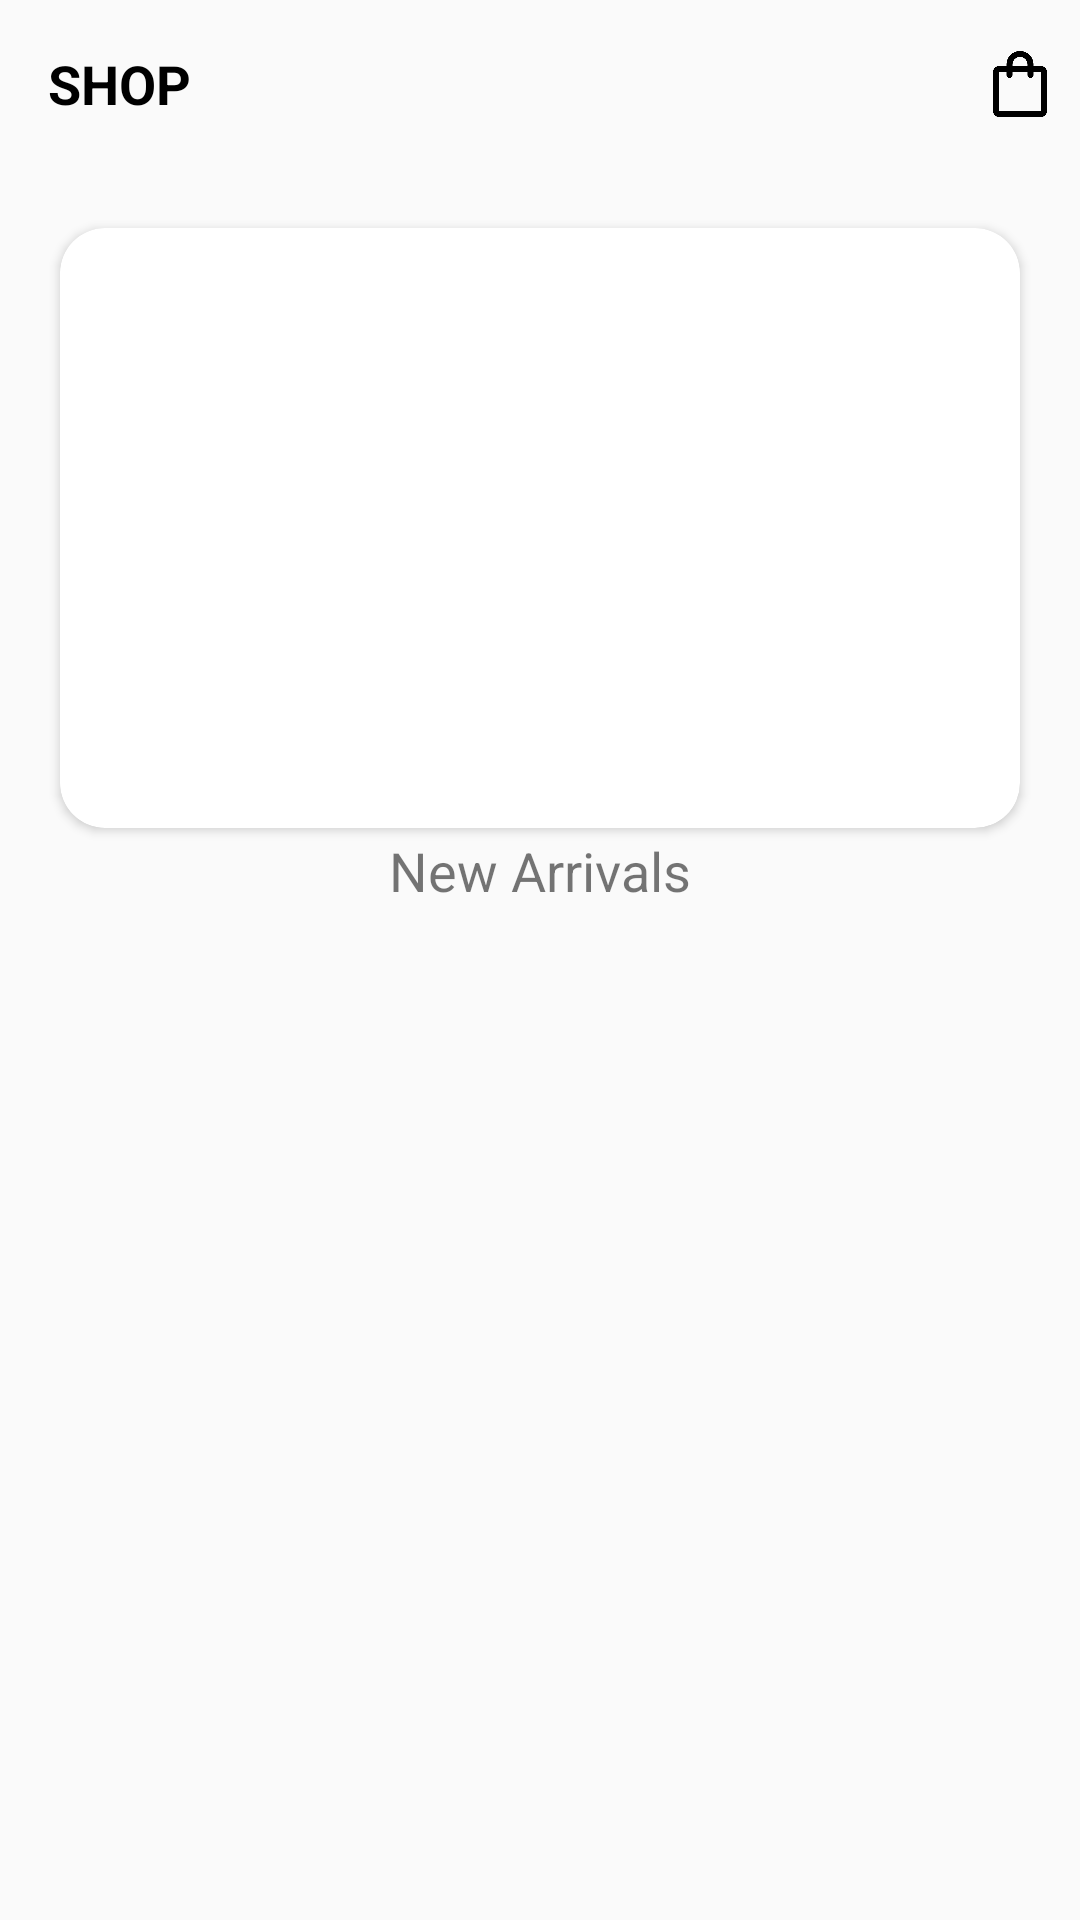

Screen size 1080px x 1920px. Icon name, then its center in pixels as (x,y):
bag: (1020,84)
